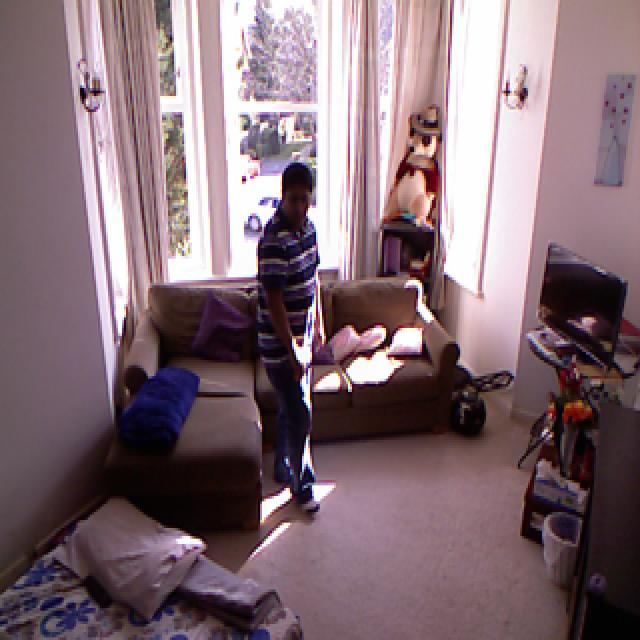standing: (256, 156, 338, 526)
